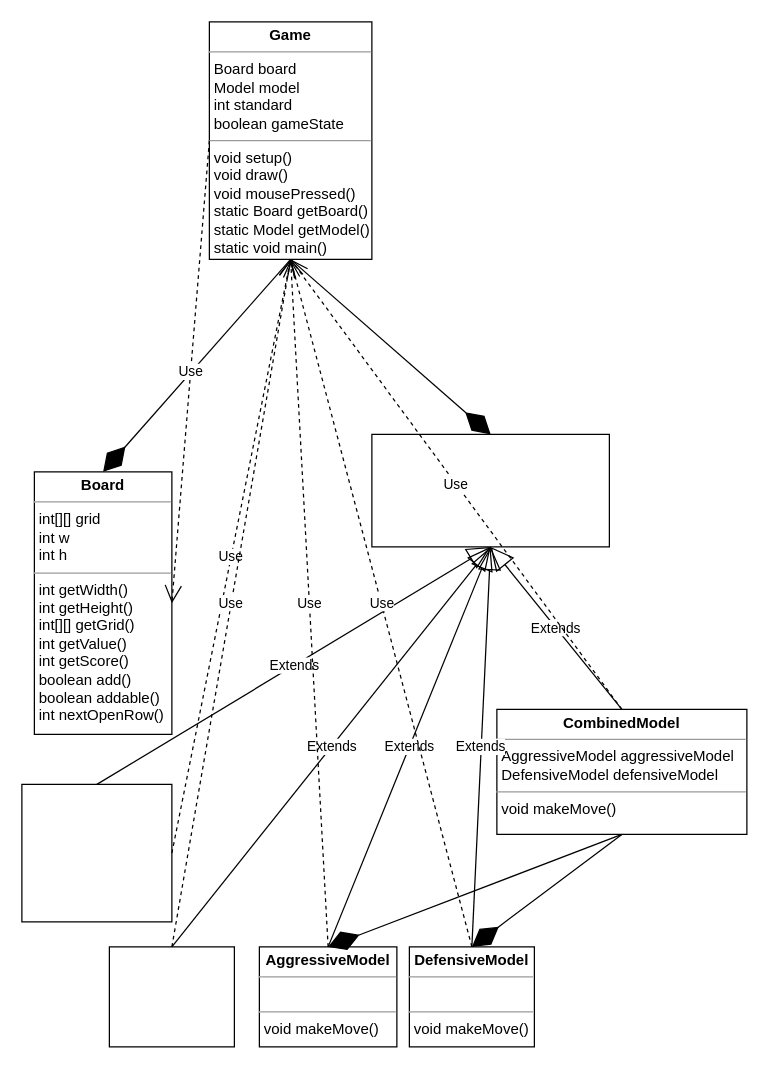
Image size: 769x1069. Some labels were removed from this diagram. Each missing label, with the box of its shape:
MiniMaxModel int[][] grid int depth void makeMove() int[] minimax(): (21, 783, 172, 922)
Model void makeMove() ArrayList<Integer> getValidRows(): (371, 433, 609, 547)
RandomModel void makeMove(): (108, 946, 234, 1047)
